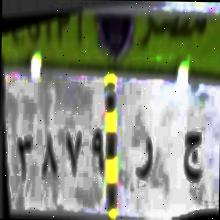3: (15, 134, 34, 186)
7: (64, 131, 82, 181)
8: (38, 134, 59, 187)
9: (90, 125, 106, 178)
jeem: (182, 126, 204, 188)
raa: (134, 134, 154, 183)
